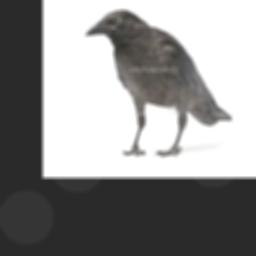Crow: (85, 9, 232, 157)
